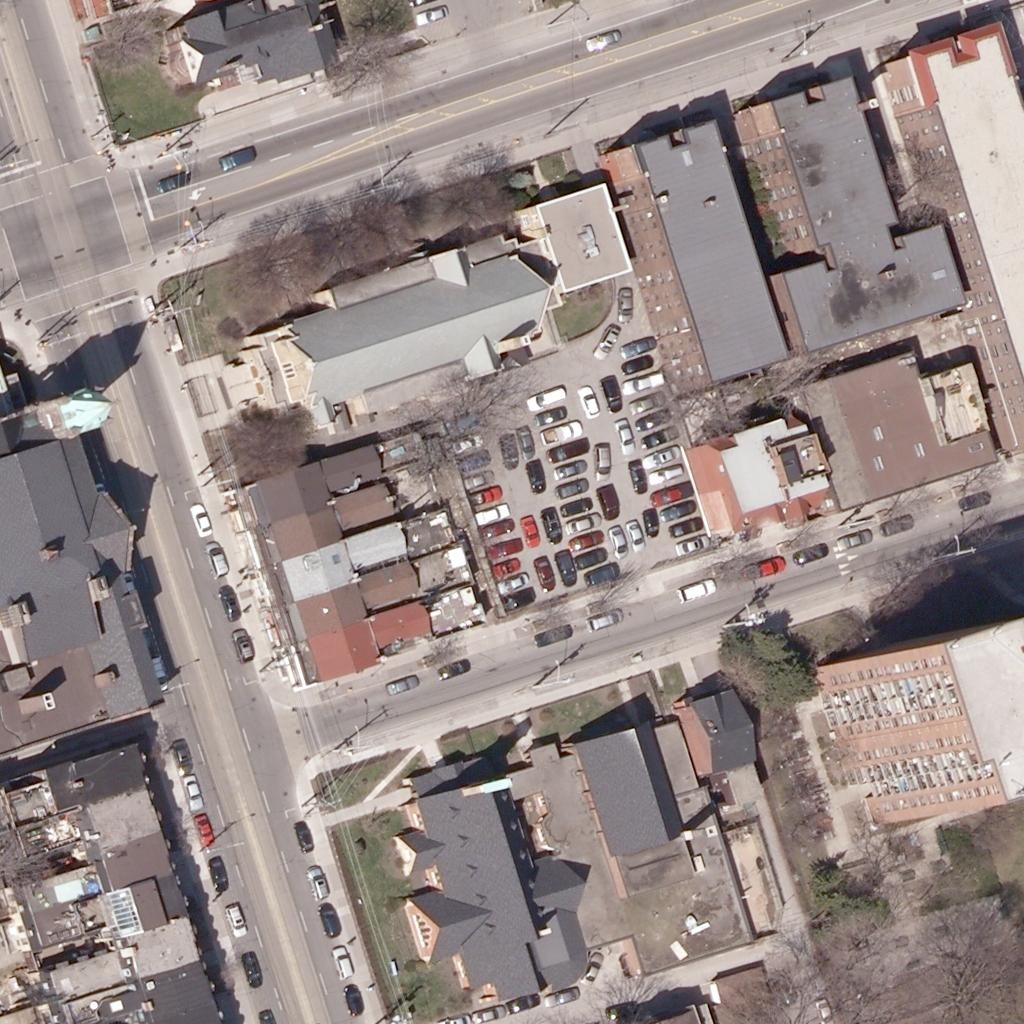car: (583, 22, 617, 56), (216, 141, 250, 175), (158, 163, 192, 197), (606, 285, 640, 319), (593, 319, 627, 353), (623, 326, 657, 360), (620, 347, 654, 381), (626, 363, 660, 397), (595, 374, 629, 408), (529, 380, 563, 414), (573, 384, 607, 418), (628, 386, 662, 420), (534, 395, 568, 429), (636, 401, 670, 435), (448, 405, 482, 439), (549, 412, 583, 446), (610, 419, 644, 453), (642, 420, 676, 454), (643, 420, 677, 454), (448, 424, 482, 458), (509, 425, 543, 459), (551, 431, 585, 465), (491, 433, 525, 467), (647, 436, 681, 470), (588, 441, 622, 475), (455, 444, 489, 478), (554, 451, 588, 485), (653, 455, 687, 489), (653, 456, 687, 490), (620, 457, 654, 491), (522, 459, 556, 493), (460, 463, 494, 497), (556, 471, 590, 505), (659, 475, 693, 509), (470, 477, 504, 511), (955, 482, 989, 516), (592, 483, 626, 517), (562, 488, 596, 522), (664, 492, 698, 526), (474, 498, 508, 532), (185, 502, 219, 536), (567, 504, 601, 538), (633, 504, 667, 538), (536, 505, 570, 539), (669, 508, 703, 542), (670, 508, 704, 542), (878, 508, 912, 542), (480, 510, 514, 544), (513, 512, 547, 546), (618, 515, 652, 549), (835, 522, 869, 556), (568, 523, 602, 557), (600, 523, 634, 557), (492, 528, 526, 562), (676, 528, 710, 562), (792, 535, 826, 569), (571, 541, 605, 575), (201, 542, 235, 576), (547, 547, 581, 581), (749, 548, 783, 582), (486, 549, 520, 583), (528, 555, 562, 589), (529, 555, 563, 589), (586, 556, 620, 590), (496, 564, 530, 598), (111, 566, 145, 600), (681, 572, 715, 606), (501, 581, 535, 615), (214, 583, 248, 617), (586, 603, 620, 637), (539, 616, 573, 650), (225, 626, 259, 660), (436, 653, 470, 687), (141, 655, 175, 689), (384, 667, 418, 701), (165, 738, 199, 772), (174, 772, 208, 806), (187, 810, 221, 844), (289, 820, 323, 854), (199, 857, 233, 891), (303, 871, 337, 905), (221, 900, 255, 934), (315, 903, 349, 937), (326, 947, 360, 981), (234, 949, 268, 983), (575, 953, 609, 987), (801, 963, 835, 997), (767, 968, 801, 1002), (546, 979, 580, 1013), (337, 985, 371, 1019), (504, 987, 538, 1021), (413, 0, 447, 32), (607, 993, 641, 1024), (808, 994, 842, 1024), (470, 999, 504, 1024), (439, 1005, 473, 1024)
